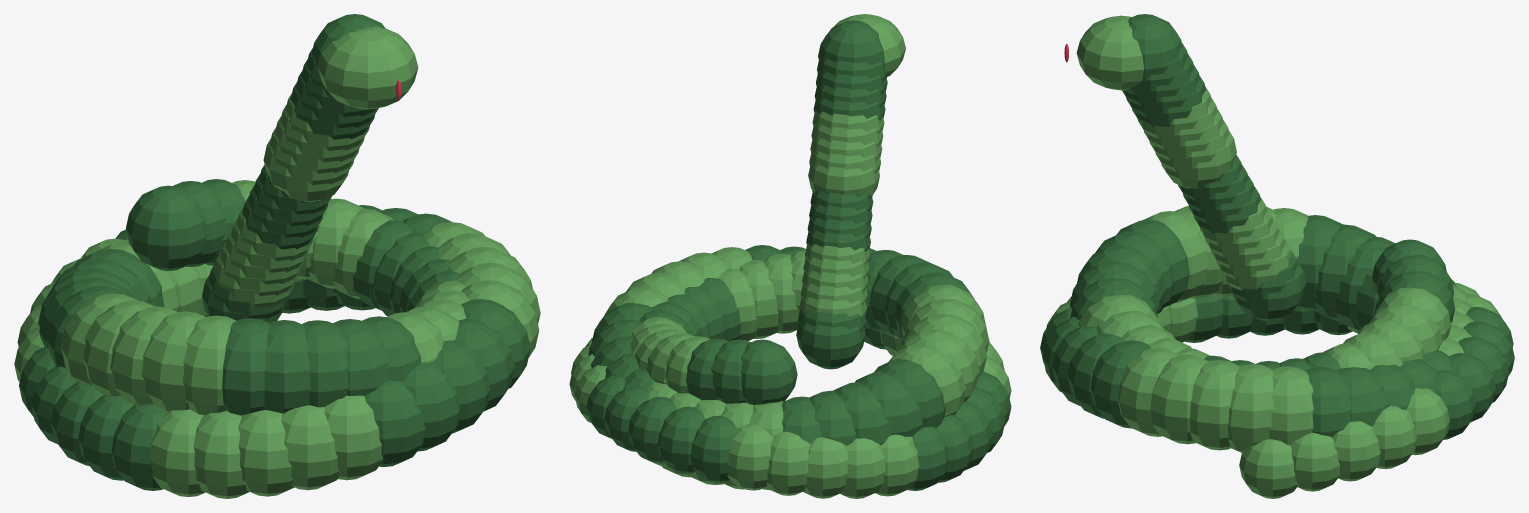
Rendered from Snake_Coil_Green.glb.
3 renders of one model, left to right at view 1: azimuth 30°, elevation 25°; view 2: azimuth 150°, elevation 25°; view 3: azimuth 270°, elevation 25°, orthographic. The views are drawn at different scales.
Visible parts, largest first — view 1: Snake_Coil_Green; view 2: Snake_Coil_Green; view 3: Snake_Coil_Green.
Part boxes in pixels (left/top/right/bottom): Snake_Coil_Green: left=14, top=14, right=540, bottom=498; Snake_Coil_Green: left=569, top=14, right=1011, bottom=498; Snake_Coil_Green: left=1040, top=14, right=1514, bottom=498.
Bounding box in the file's own units: 0.6813 × 0.6182 × 0.668.
